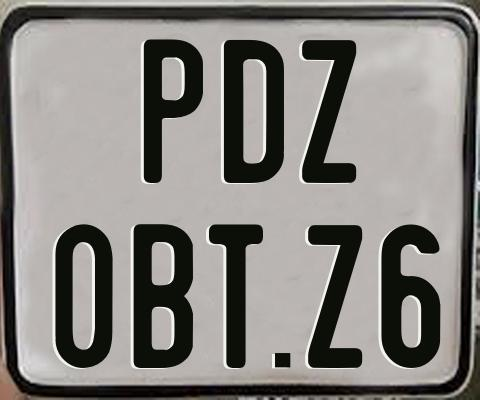0: (53, 224, 112, 372)
6: (380, 223, 444, 371)
B: (132, 223, 191, 372)
D: (224, 37, 286, 186)
P: (143, 37, 206, 183)
T: (207, 224, 262, 369)
Z: (306, 222, 366, 369), (302, 37, 362, 180)
